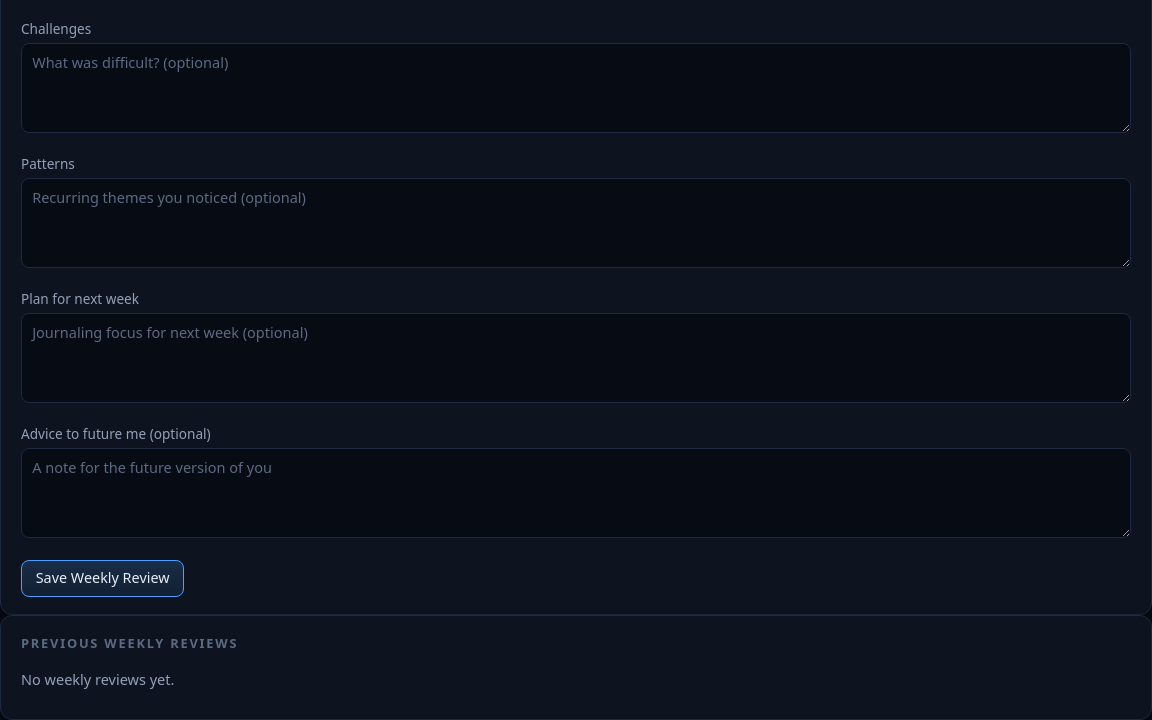
Test: WeeklyReviewPage › saves via the correct week-scoped endpoint and shows server XP only on create
(page scrolled)
Step 1. Click the button "Save Weekly Review" → {"x": 103, "y": 578}, box left=21, top=560, right=184, bottom=597
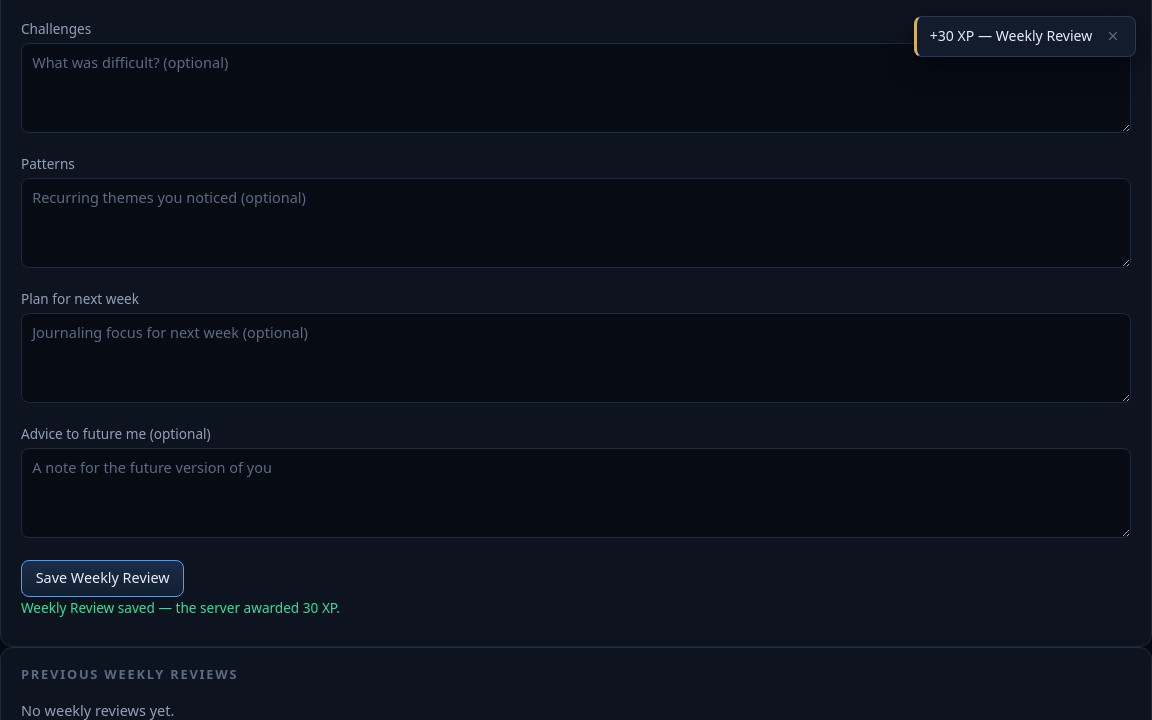
Now the text "+30 XP — Weekly Review" is shown, box left=930, top=25, right=1092, bottom=47
